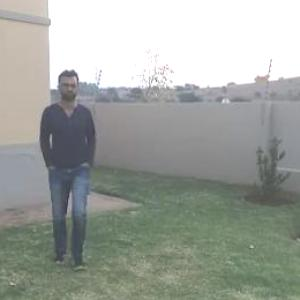follow: (36, 66, 100, 254)
